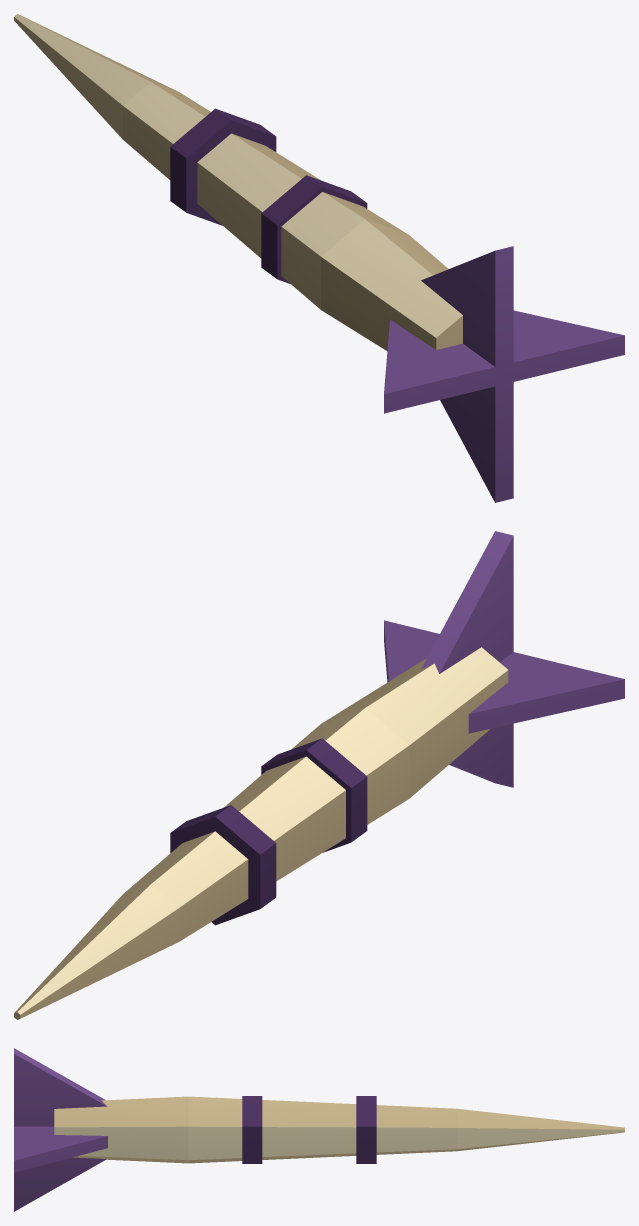
Rendered from BoneQuill.fbx.
3 renders of one model, top to bottom at view 1: azimuth 30°, elevation 25°; view 2: azimuth 150°, elevation 25°; view 3: azimuth 270°, elevation 25°, orthographic. The views are drawn at different scales.
Visible parts, largest first — view 1: Shaft, Fletching, Rings; view 2: Shaft, Fletching, Rings; view 3: Shaft, Fletching, Rings.
Part boxes in pixels (<box>): Shaft: <box>14,14,462,350</box>; Fletching: <box>384,246,624,502</box>; Rings: <box>170,108,367,283</box>; Shaft: <box>14,647,508,1019</box>; Fletching: <box>384,531,624,787</box>; Rings: <box>170,738,367,925</box>; Shaft: <box>54,1096,624,1163</box>; Fletching: <box>14,1048,107,1211</box>; Rings: <box>242,1096,376,1163</box>.
Size of the model in its own units: 0.26 by 0.26 by 0.91.
1 material, 1 textured.
